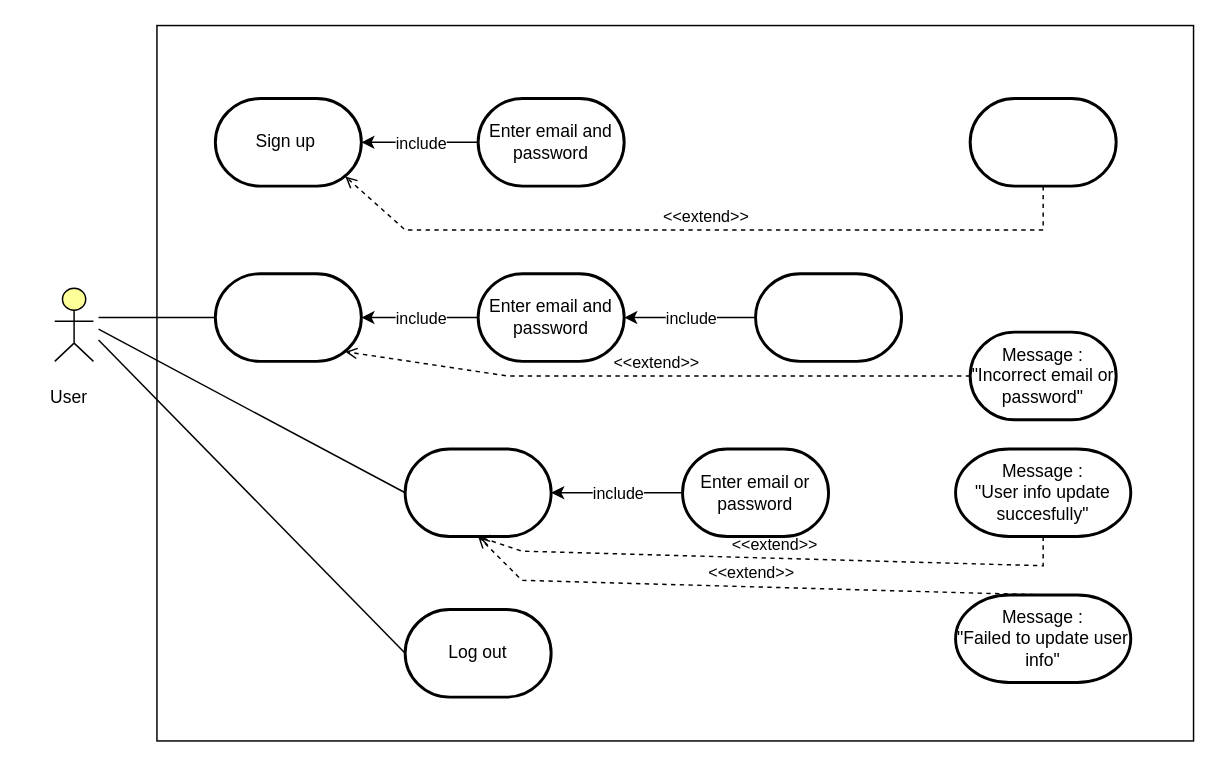
Some shapes in this 1219 by 767 pixel diagram are drawn without their labels. Each missing label, with the centre of its shape:
Log in: point 287,317
Message : "Error registrer": point 1042,141
Update user details: point 477,492
User athentication: point 827,317
